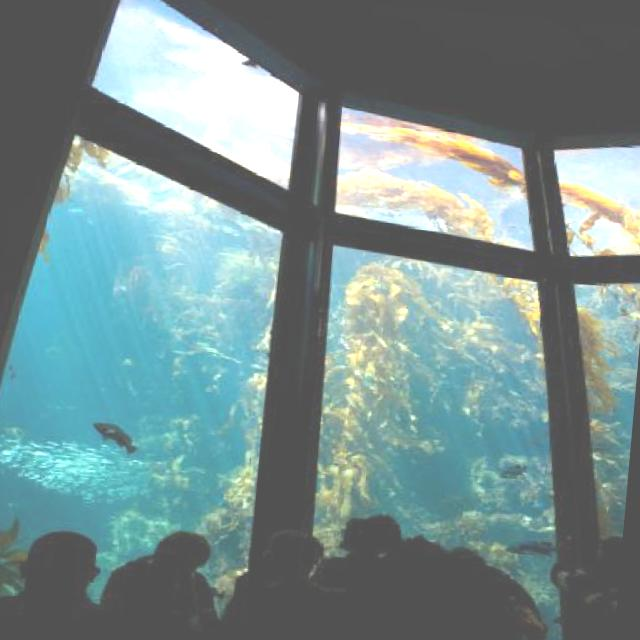Person: (94, 522, 214, 624), (0, 523, 116, 620)
